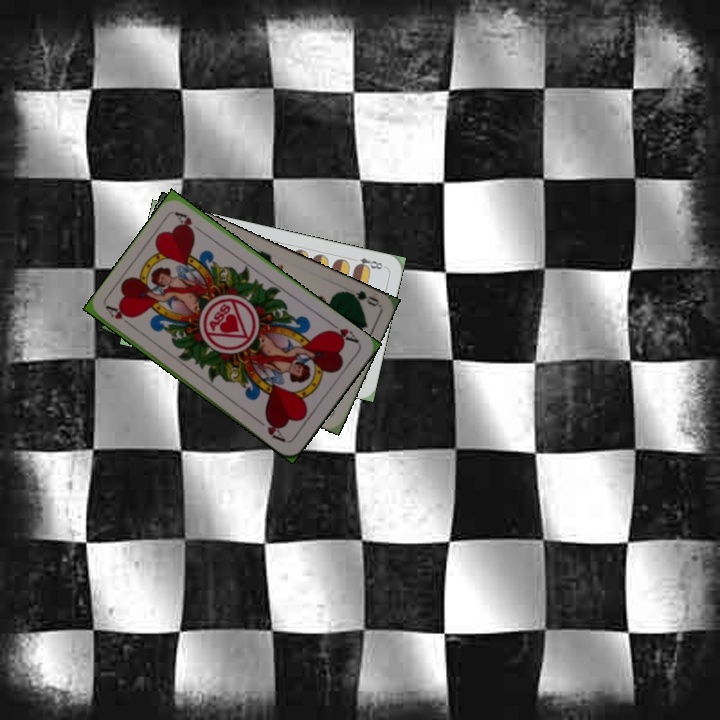E8: (348, 253, 387, 273)
GO: (340, 286, 381, 309)
HA: (324, 318, 362, 346), (103, 302, 138, 332)
